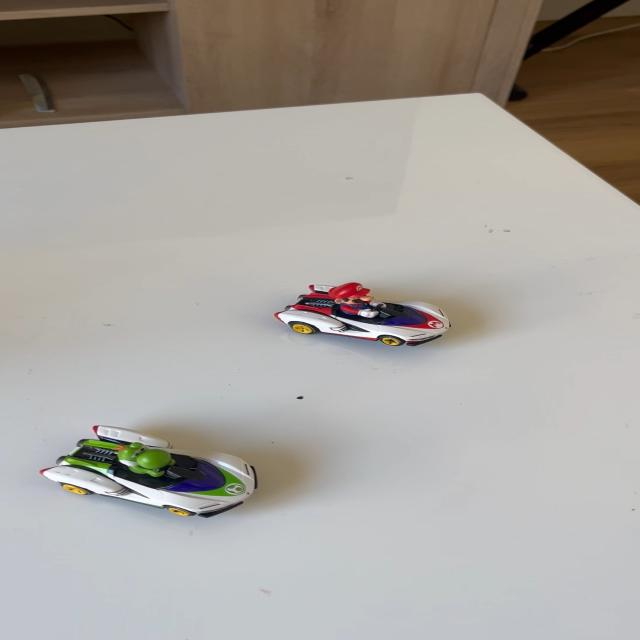mario: (260, 274, 470, 352)
yoshi: (34, 423, 278, 526)
